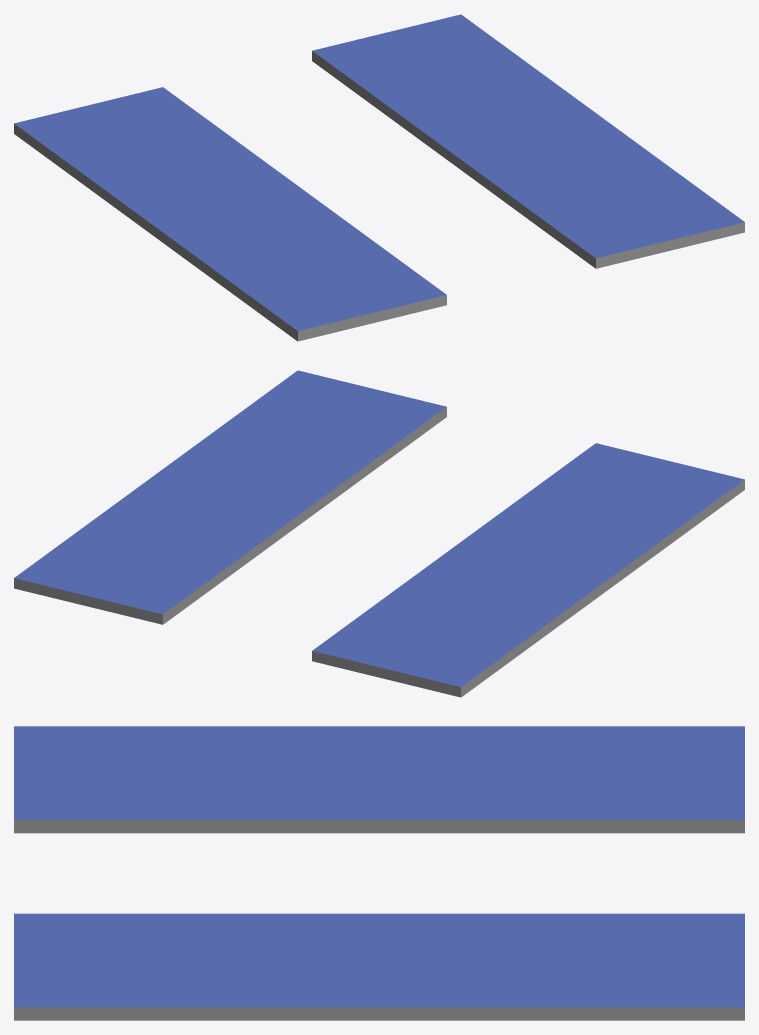
Rendered from SatWings1Unity.fbx.
3 renders of one model, top to bottom at view 1: azimuth 30°, elevation 25°; view 2: azimuth 150°, elevation 25°; view 3: azimuth 270°, elevation 25°, orthographic. The views are drawn at different scales.
Parts seen in each view (by area): view 1: SatWing2, SatWing1; view 2: SatWing2, SatWing1; view 3: SatWing2, SatWing1.
Boxes of the visible parts, x1=… form: SatWing2: x1=14, y1=87, x2=446, y2=341; SatWing1: x1=312, y1=14, x2=744, y2=268; SatWing2: x1=312, y1=443, x2=744, y2=697; SatWing1: x1=14, y1=370, x2=446, y2=624; SatWing2: x1=14, y1=726, x2=744, y2=833; SatWing1: x1=14, y1=913, x2=744, y2=1020.
Size of the model in its own units: 9 by 0.2 by 9.9.
